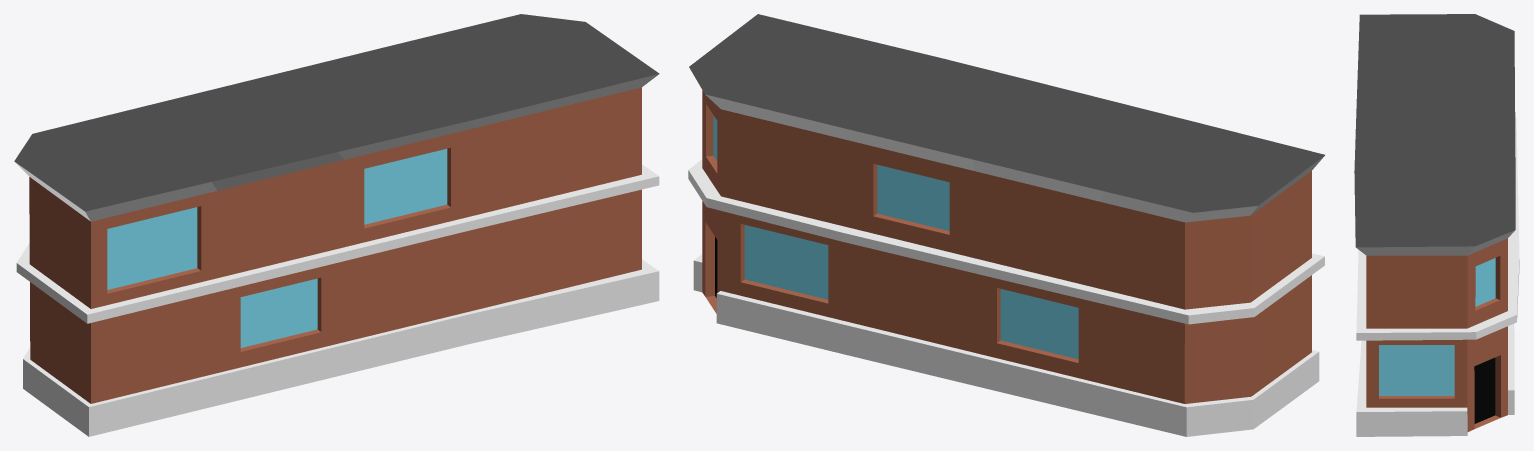
Rendered from Shop_01.fbx.
The picture shows the model from 3 angles, left to right: view 1: azimuth 30°, elevation 25°; view 2: azimuth 150°, elevation 25°; view 3: azimuth 270°, elevation 25°; orthographic projection. The views are drawn at different scales.
Visible parts, largest first — view 1: Building_07; view 2: Building_07; view 3: Building_07.
Part boxes in pixels (x1,y1,x2,y2): Building_07: (14, 14, 659, 436); Building_07: (688, 14, 1324, 436); Building_07: (1354, 14, 1519, 436).
Bounding box in the file's own units: 4334 × 1642 × 1295.
